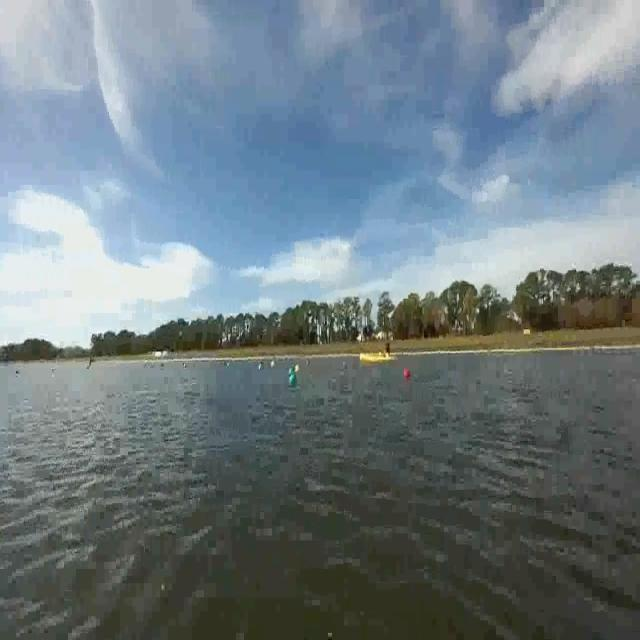green-buoy: (287, 373, 298, 386)
red-buoy: (406, 367, 412, 378)
